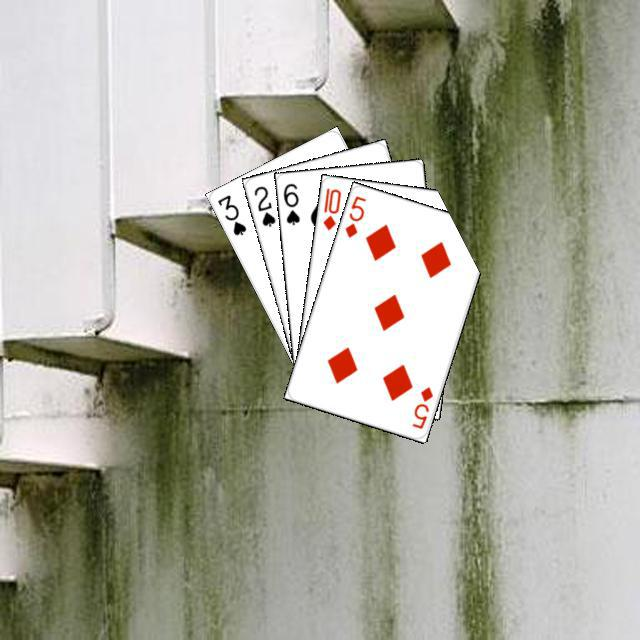10d: (318, 183, 343, 232)
2s: (249, 181, 277, 228)
3s: (213, 190, 248, 237)
5d: (340, 191, 368, 240), (407, 381, 435, 430)
6s: (278, 179, 301, 226)
